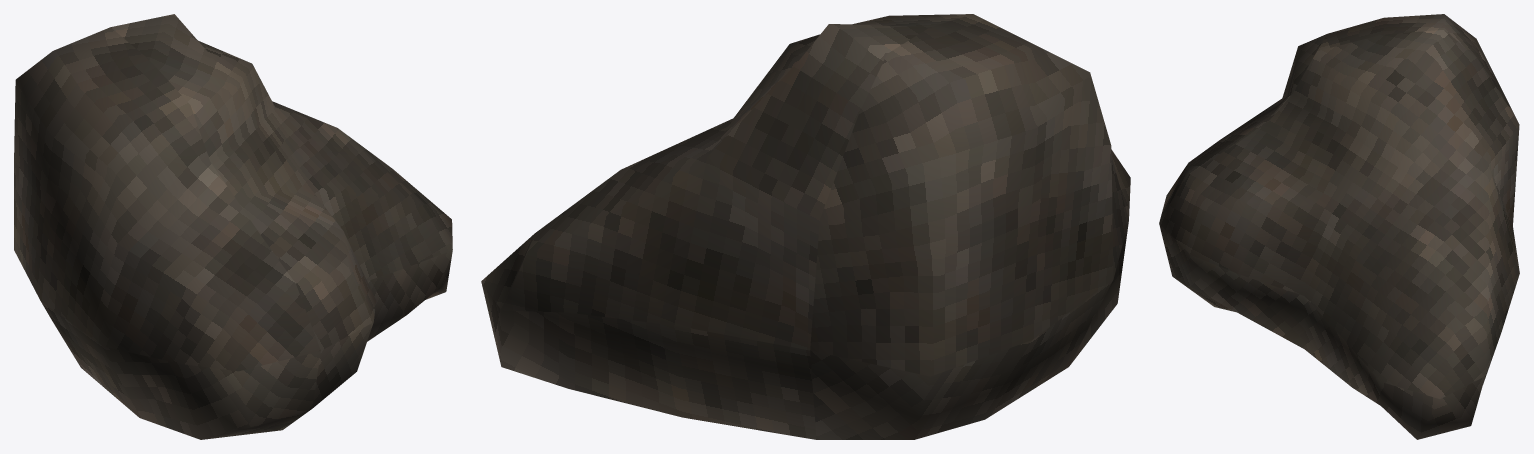
The model's file is rock_c.glb.
3 views of the same model, side by side, from view 1: azimuth 30°, elevation 25°; view 2: azimuth 150°, elevation 25°; view 3: azimuth 270°, elevation 25° (orthographic). The views are drawn at different scales.
Parts seen in each view (by area): view 1: Rock_03.001; view 2: Rock_03.001; view 3: Rock_03.001.
Part boxes in pixels (bbox=[...]): Rock_03.001: bbox=[14, 14, 452, 439]; Rock_03.001: bbox=[481, 14, 1130, 439]; Rock_03.001: bbox=[1159, 14, 1519, 439].
Bounding box in the file's own units: 2.2 × 1.67 × 1.87.
1 material, 1 textured.
